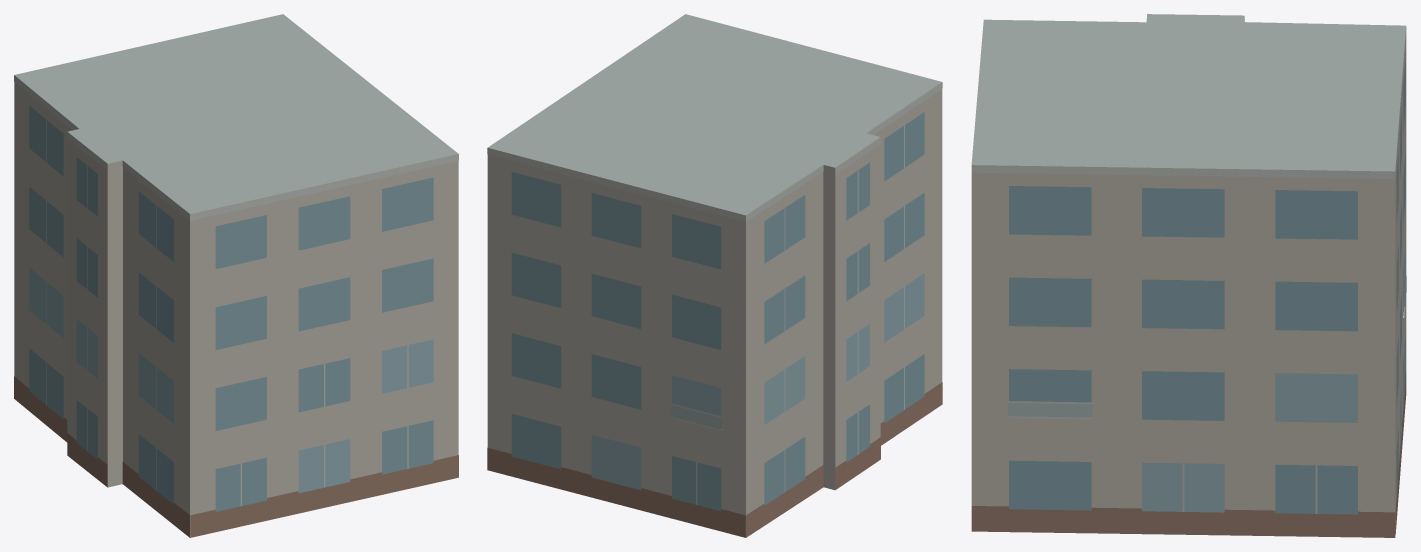
File: survey-upis-32653951.glb
3 renders of one model, left to right at view 1: azimuth 30°, elevation 25°; view 2: azimuth 150°, elevation 25°; view 3: azimuth 270°, elevation 25°, orthographic. The views are drawn at different scales.
Visible parts, largest first — view 1: survey-upis-32653951.tmp; view 2: survey-upis-32653951.tmp; view 3: survey-upis-32653951.tmp.
Boxes of the visible parts, x1,y1,x2,y2 form: survey-upis-32653951.tmp: (14,14,458,537); survey-upis-32653951.tmp: (487,14,942,537); survey-upis-32653951.tmp: (971,14,1406,537).
Size of the model in its own units: 10.79 by 11.7 by 12.6.
